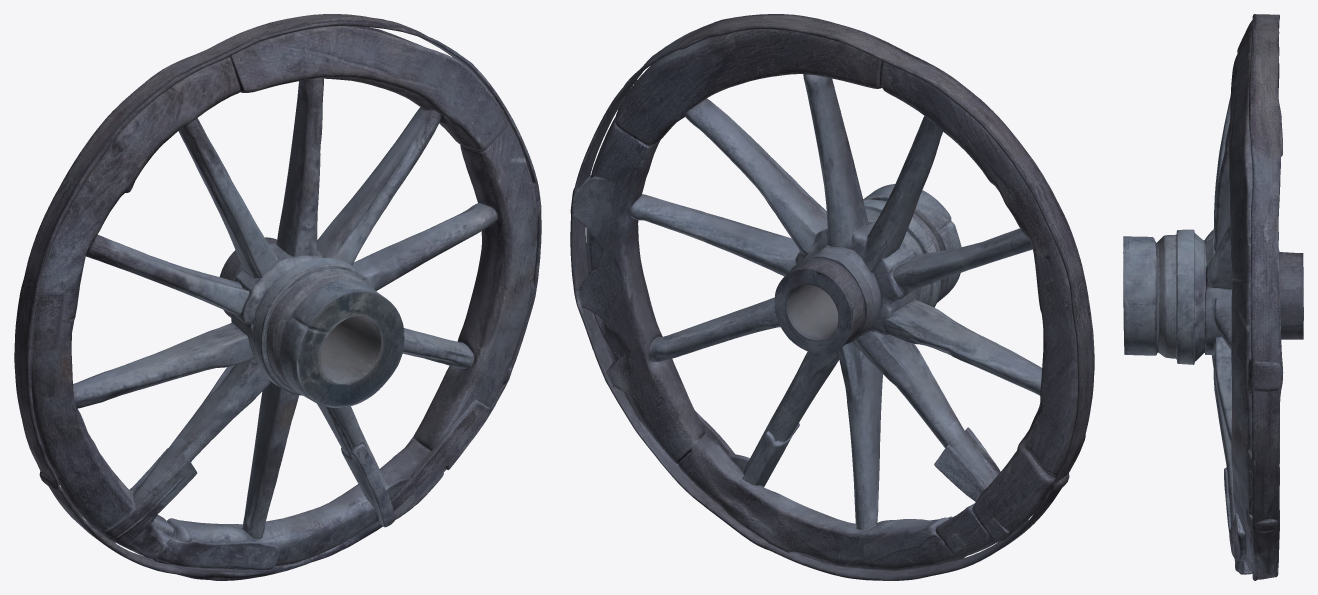
File: tocak.glb
The picture shows the model from 3 angles, left to right: view 1: azimuth 30°, elevation 25°; view 2: azimuth 150°, elevation 25°; view 3: azimuth 270°, elevation 25°; orthographic projection. The views are drawn at different scales.
Size of the model in its own units: 1.89 by 1.9 by 0.6077.
1 material, 1 textured.
